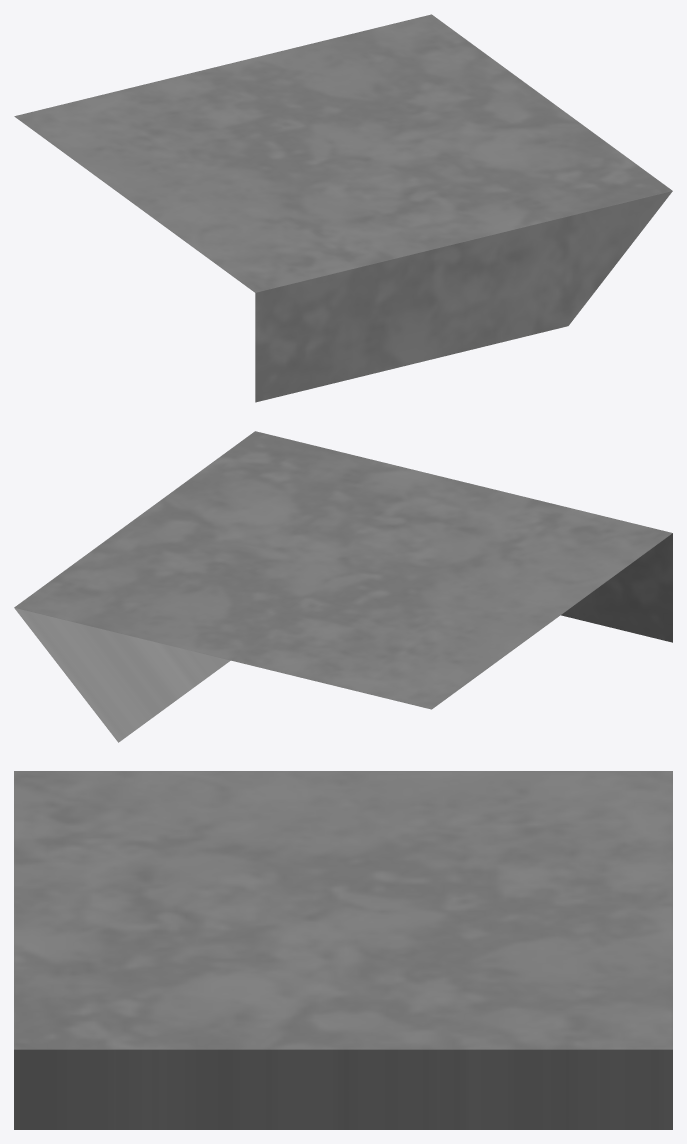
Rendered from grd_top_right.fbx.
3 renders of one model, top to bottom at view 1: azimuth 30°, elevation 25°; view 2: azimuth 150°, elevation 25°; view 3: azimuth 270°, elevation 25°, orthographic. The views are drawn at different scales.
Parts seen in each view (by area): view 1: top_right; view 2: top_right; view 3: top_right.
Part boxes in pixels (x1=…): top_right: x1=14, y1=14, x2=672, y2=402; top_right: x1=14, y1=431, x2=672, y2=742; top_right: x1=14, y1=771, x2=672, y2=1129.
Bounding box in the file's own units: 39.98 × 10.03 × 39.98.
1 material, 1 textured.
